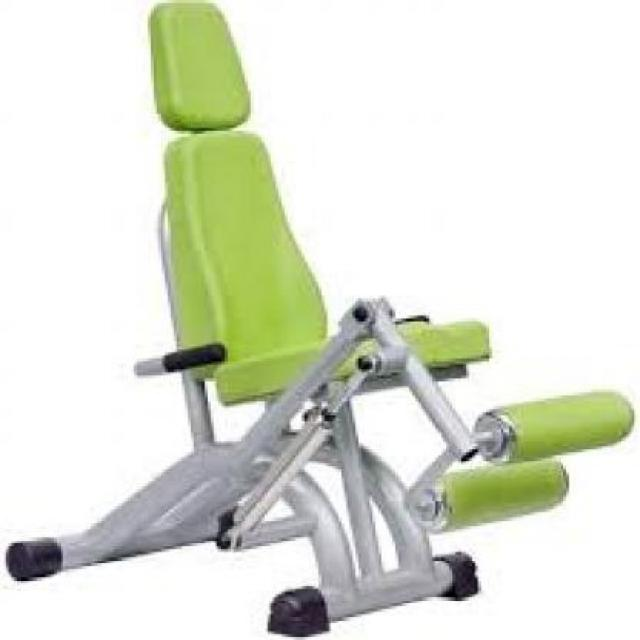leg extension: (4, 1, 640, 640)
